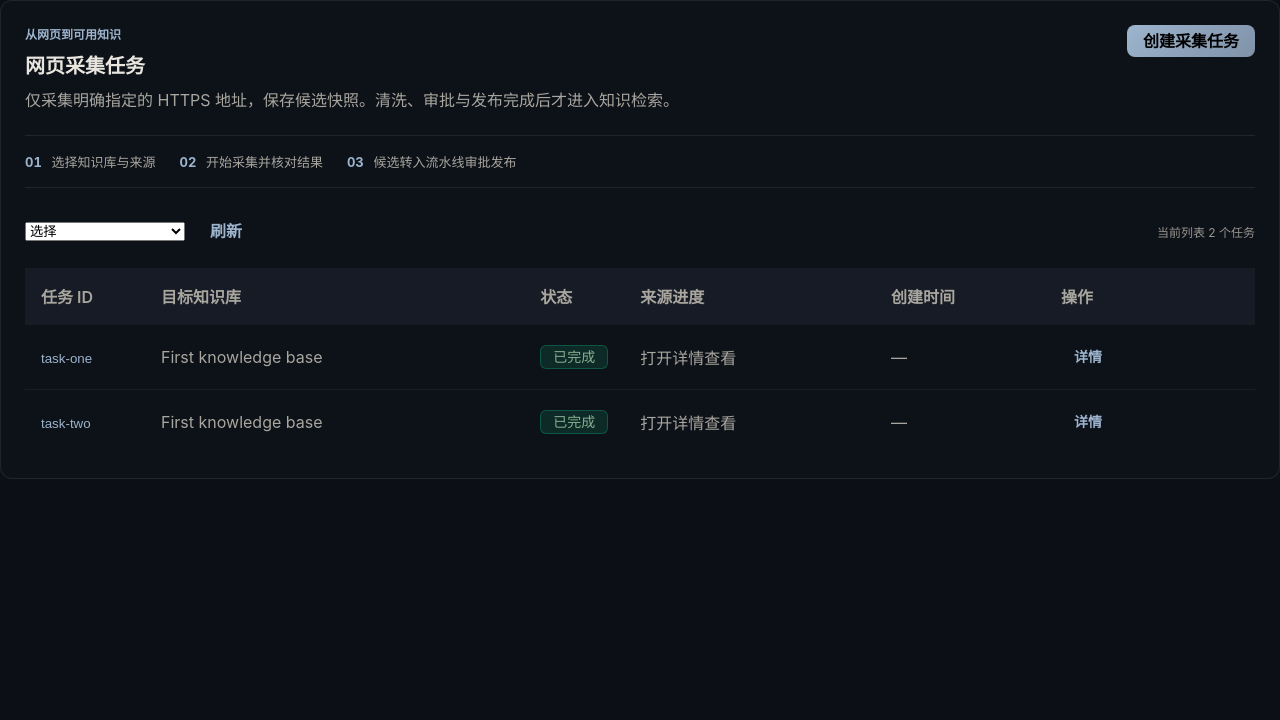
it: collection source to lifecycle flow › filters failed sources and prepares a fresh retry draft without starting it
Click the button "task-one" at (67, 358), box [41,351,92,366]
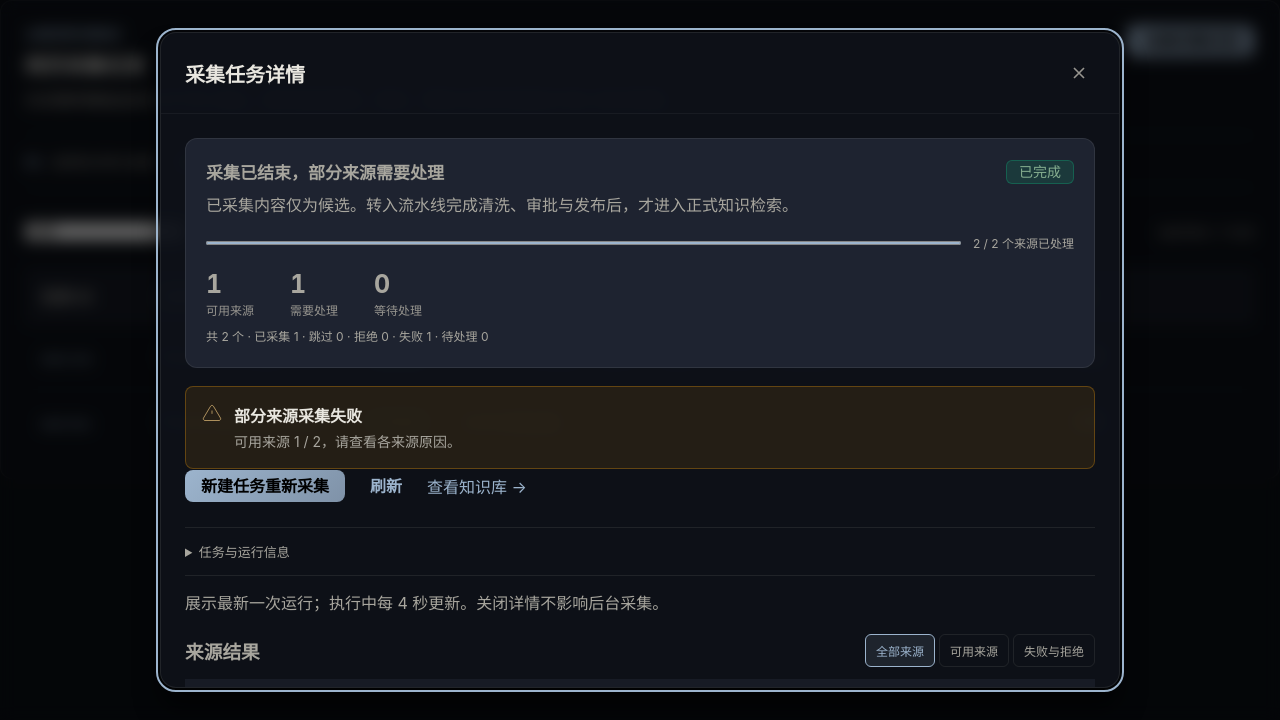
Expected: the progress indicator named "已处理来源" holds "2", [206,238,961,246]
Click the button "失败与拒绝" at (1054, 651), box [1013,634,1095,667]
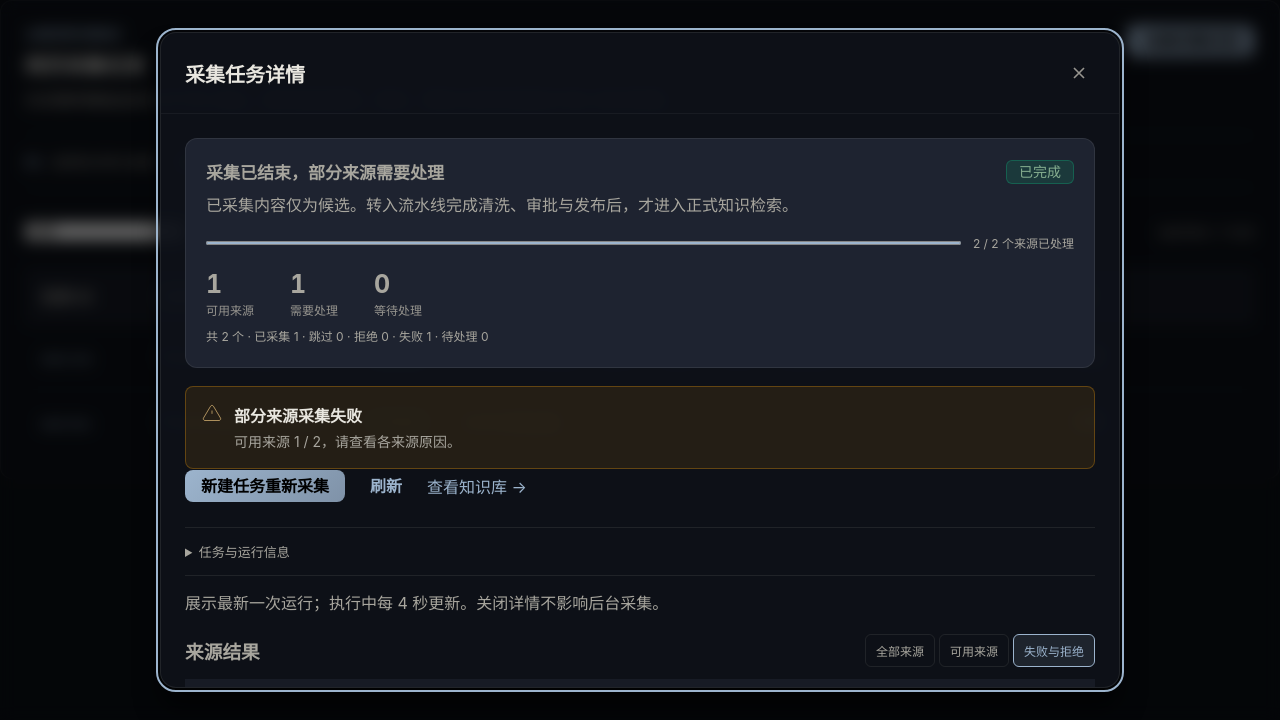
Click the button "新建任务重新采集" at (265, 486), box [185,470,345,502]
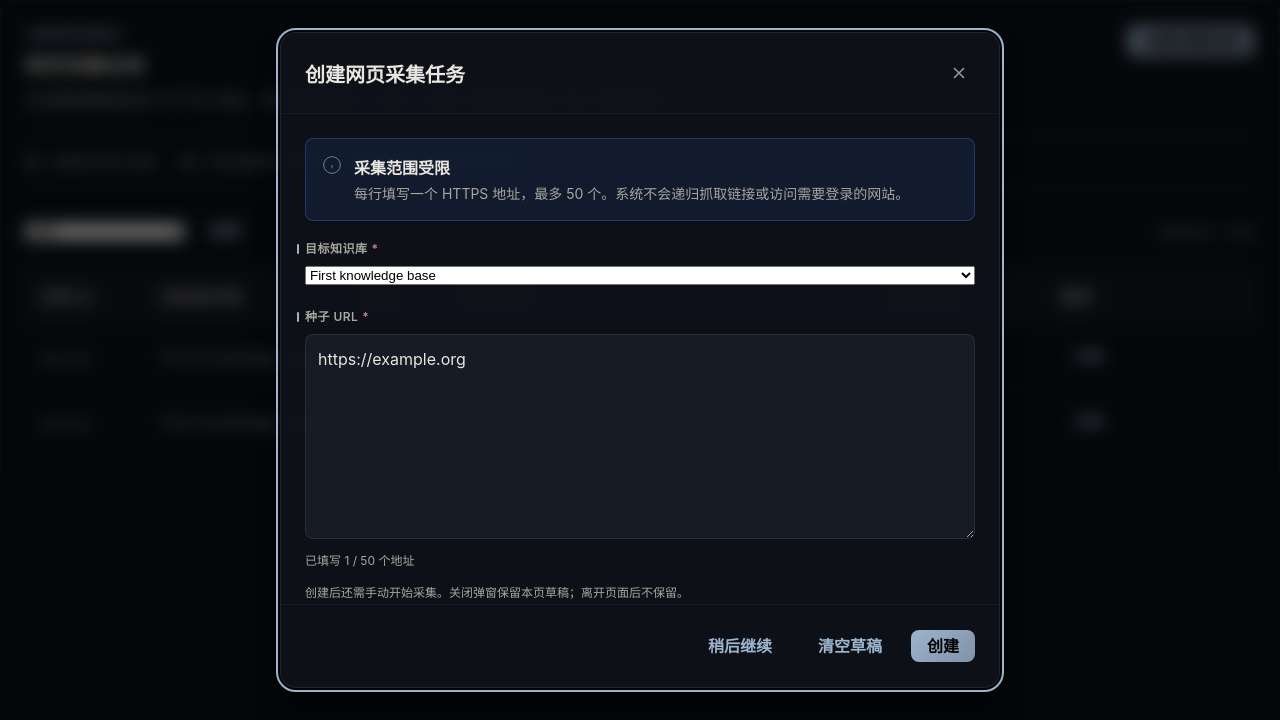
Expected: the text box holds "https://example.org", [305,334,975,539]
